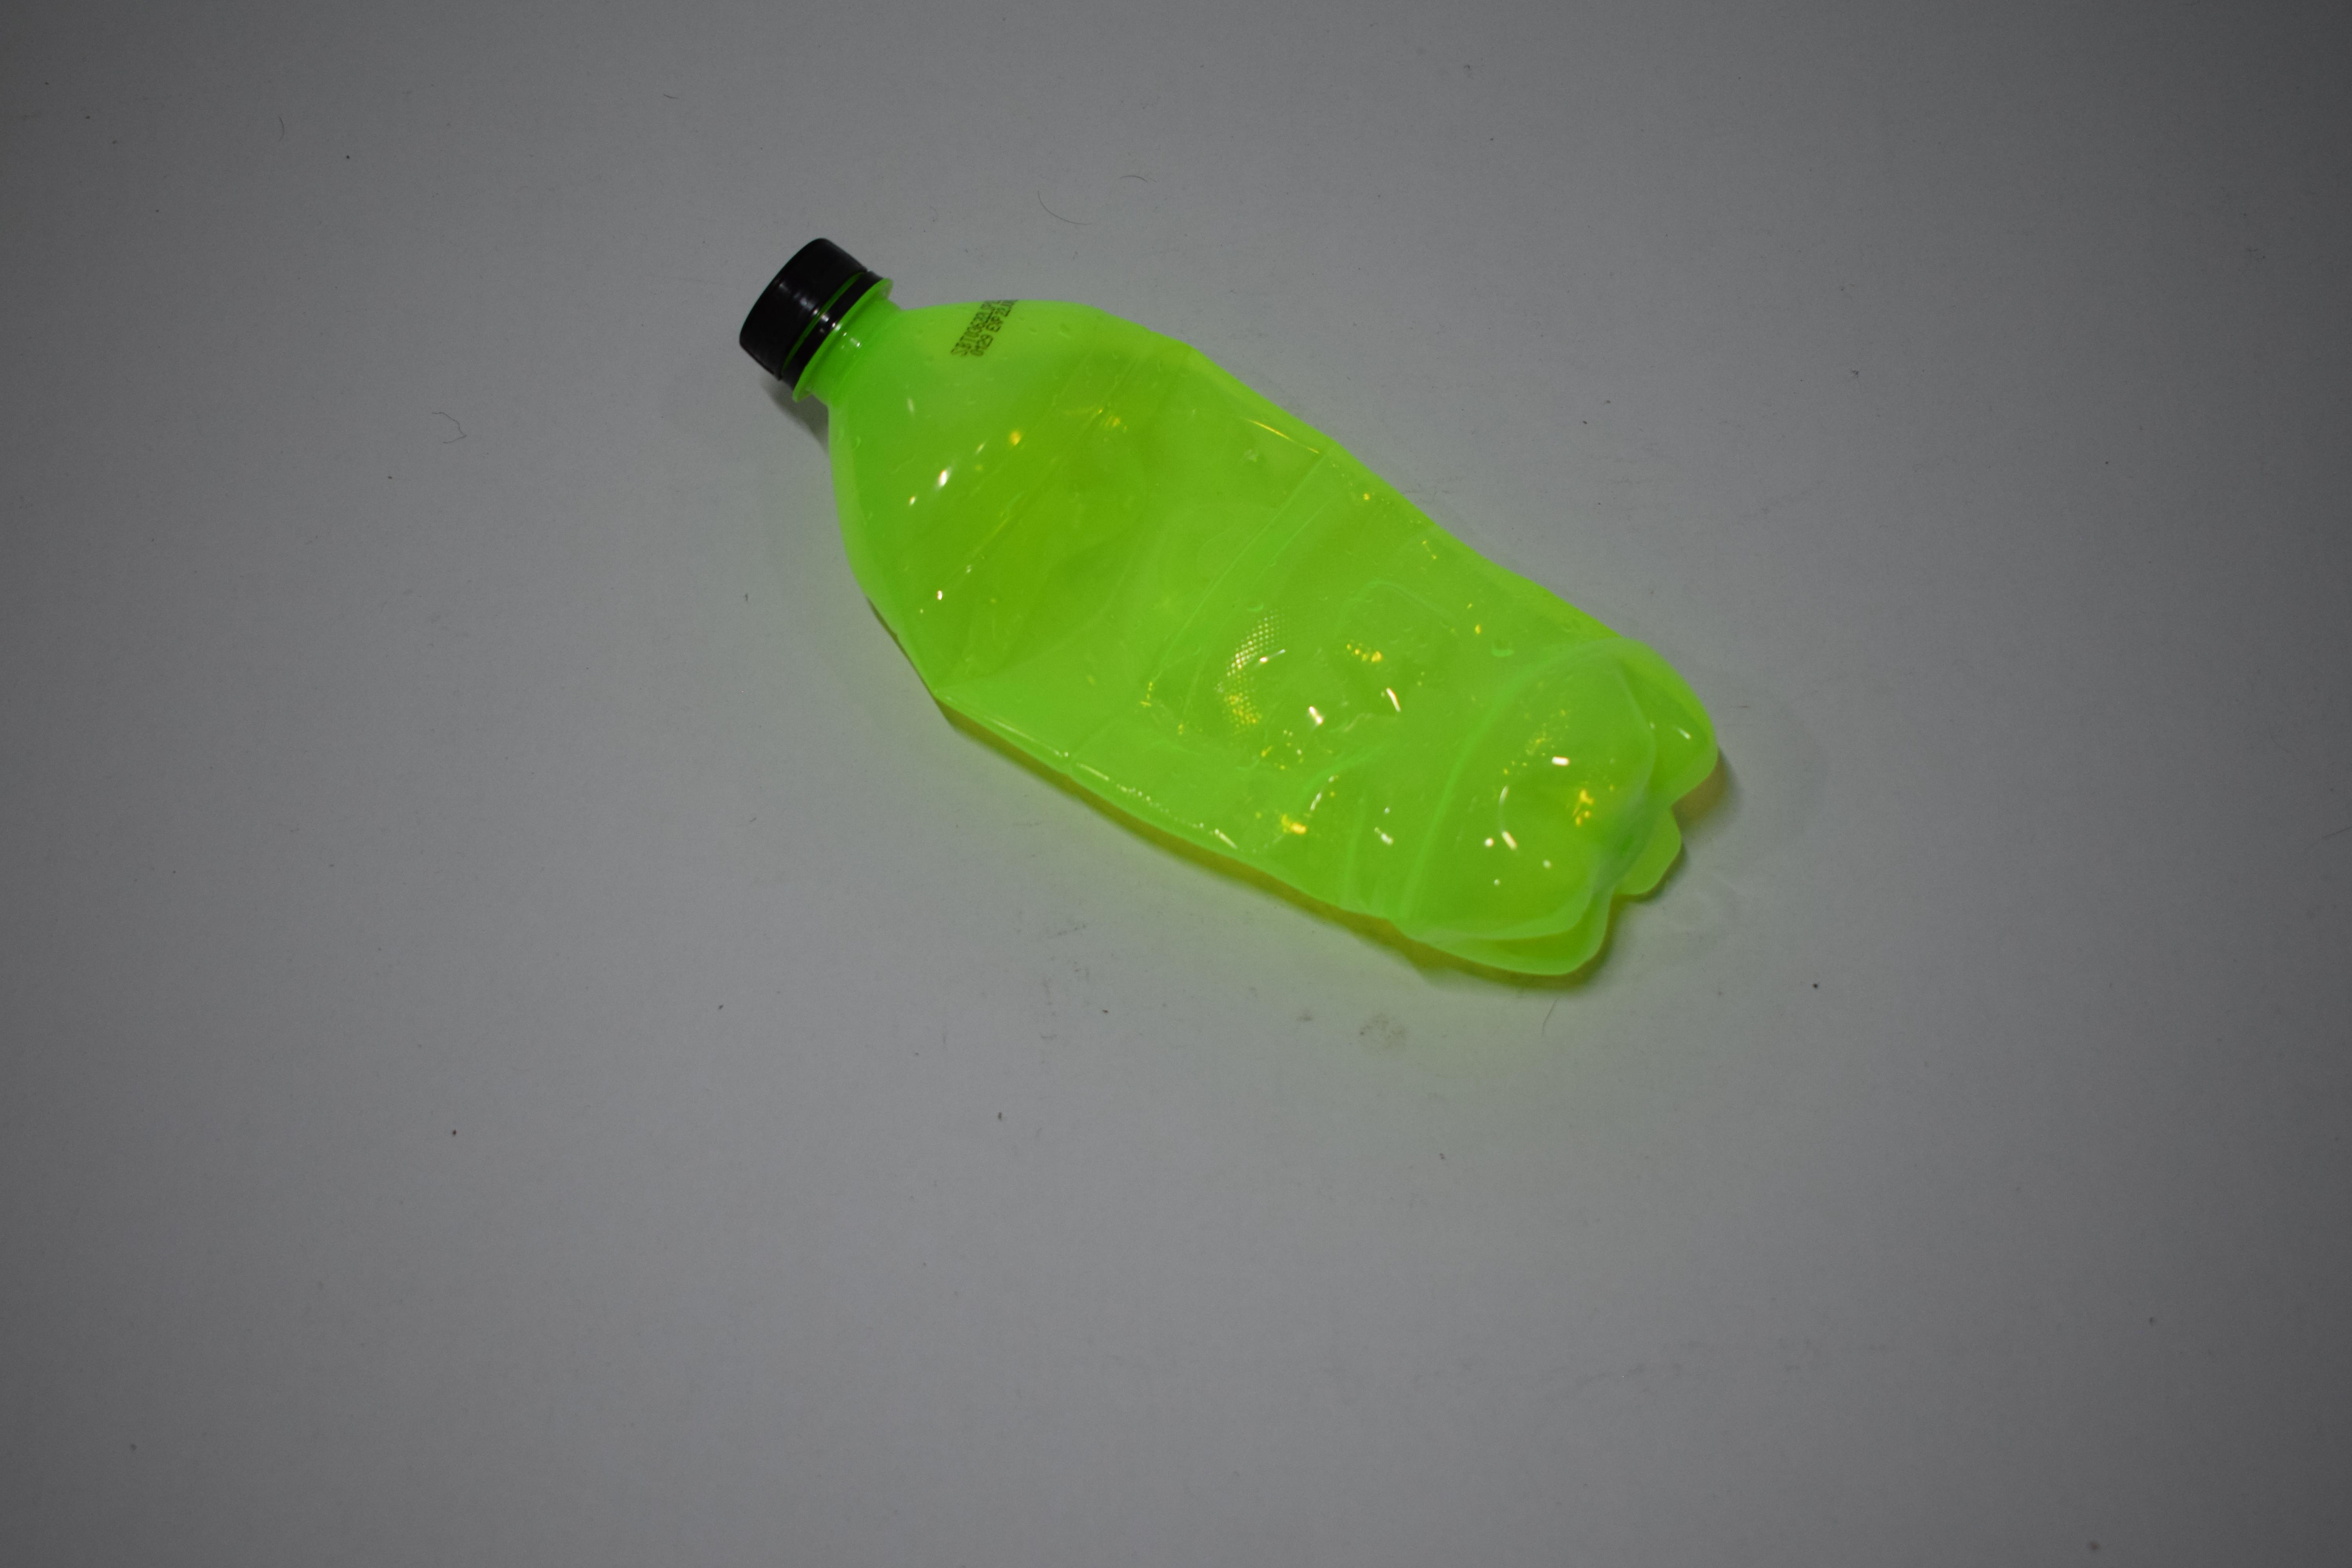bottle: (0, 212, 543, 980)
